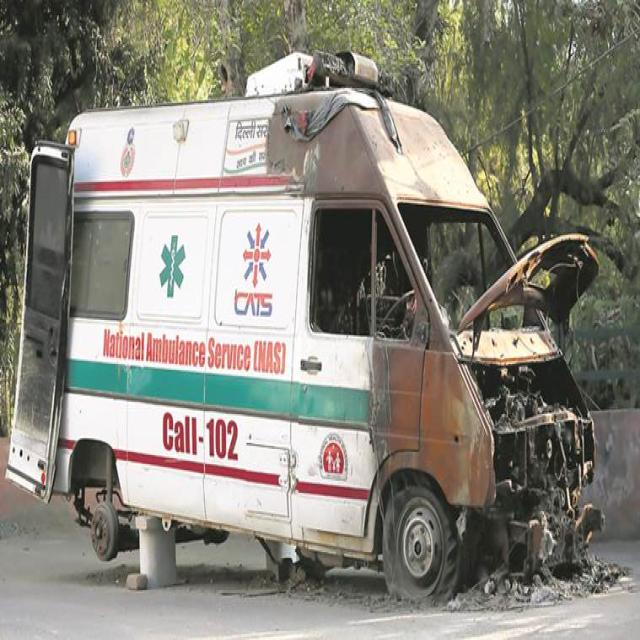accident: (6, 52, 620, 608)
